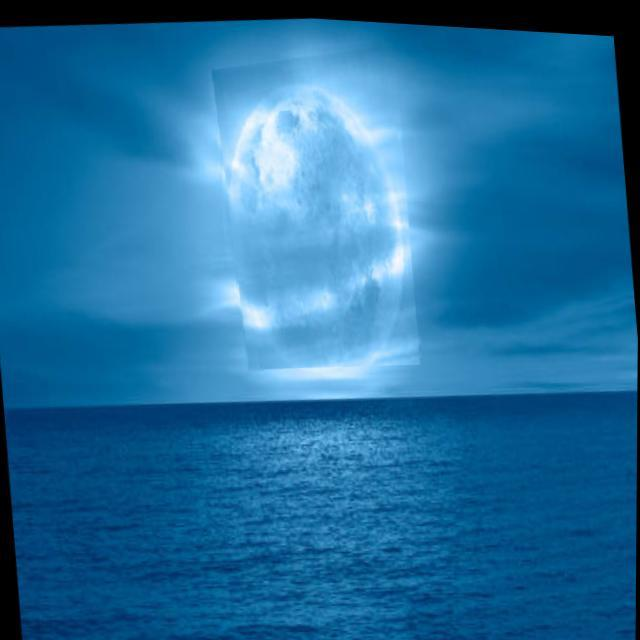moon: (208, 30, 422, 375)
